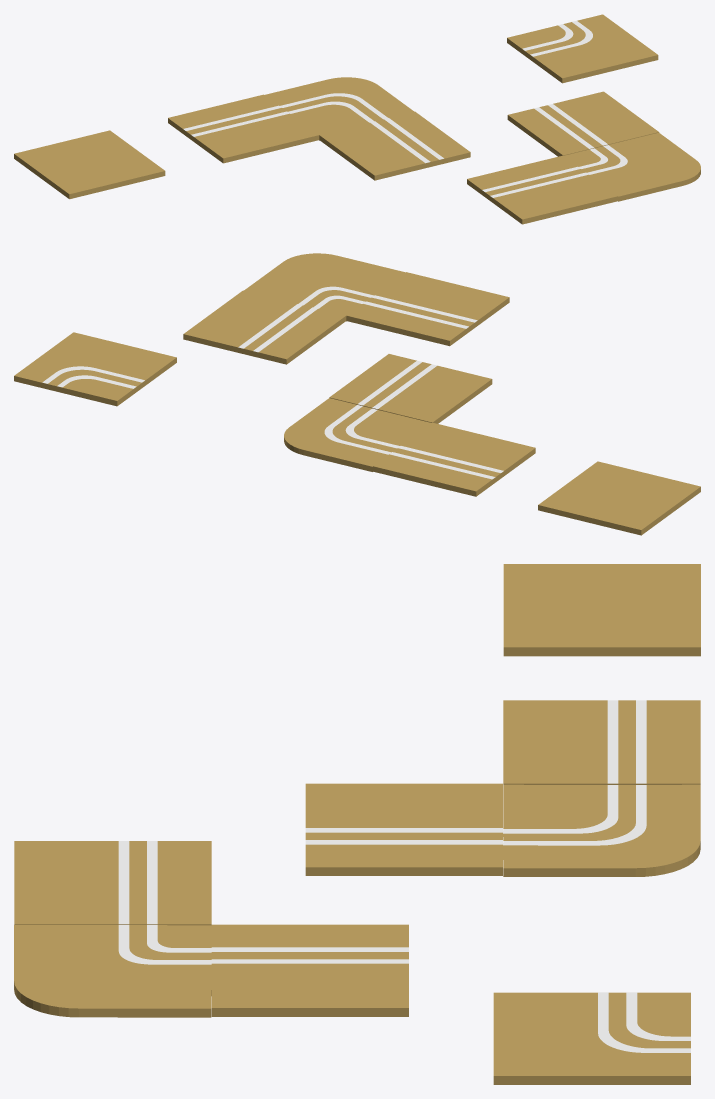
Rendered from tiles2.fbx.
3 renders of one model, top to bottom at view 1: azimuth 30°, elevation 25°; view 2: azimuth 150°, elevation 25°; view 3: azimuth 270°, elevation 25°, orthographic. The views are drawn at different scales.
Parts seen in each view (by area): view 1: Plane.004, Plane.001, Plane.003, Plane, Plane.007, Plane.006, Plane.005, Plane.002; view 2: Plane.007, Plane.006, Plane, Plane.001, Plane.004, Plane.003, Plane.002, Plane.005; view 3: Plane.006, Plane.003, Plane.004, Plane, Plane.005, Plane.002, Plane.001, Plane.007.
Part boxes in pixels (x1,y1,x2,y2): Plane.004: (507,14,658,83); Plane.001: (168,94,319,163); Plane.003: (319,111,470,180); Plane: (14,130,165,199); Plane.007: (467,155,618,224); Plane.006: (507,91,659,156); Plane.005: (564,132,700,201); Plane.002: (265,77,414,140); Plane.007: (346,272,509,346); Plane.006: (183,290,346,364); Plane: (538,461,700,535); Plane.001: (373,422,535,496); Plane.004: (14,332,176,406); Plane.003: (329,354,492,423); Plane.002: (284,398,431,471); Plane.005: (244,253,405,321); Plane.006: (211,924,408,1016); Plane.003: (305,783,502,875); Plane.004: (493,992,690,1084); Plane: (503,564,700,656); Plane.005: (14,925,211,1017); Plane.002: (503,784,700,876); Plane.001: (503,700,700,784); Plane.007: (14,841,211,925).
Size of the model in its own units: 611 by 7.15 by 348.
